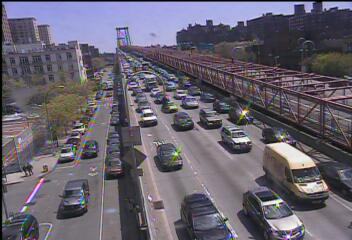neg: (242, 108, 275, 151), (72, 134, 102, 174), (120, 22, 149, 60), (286, 155, 312, 190), (281, 29, 305, 61), (295, 88, 319, 120), (175, 182, 199, 213), (20, 37, 44, 68), (153, 86, 173, 113), (215, 46, 234, 73), (199, 108, 216, 132), (88, 25, 104, 47), (54, 190, 70, 212), (119, 96, 133, 115)
pos: (25, 161, 35, 174), (21, 166, 28, 176)
